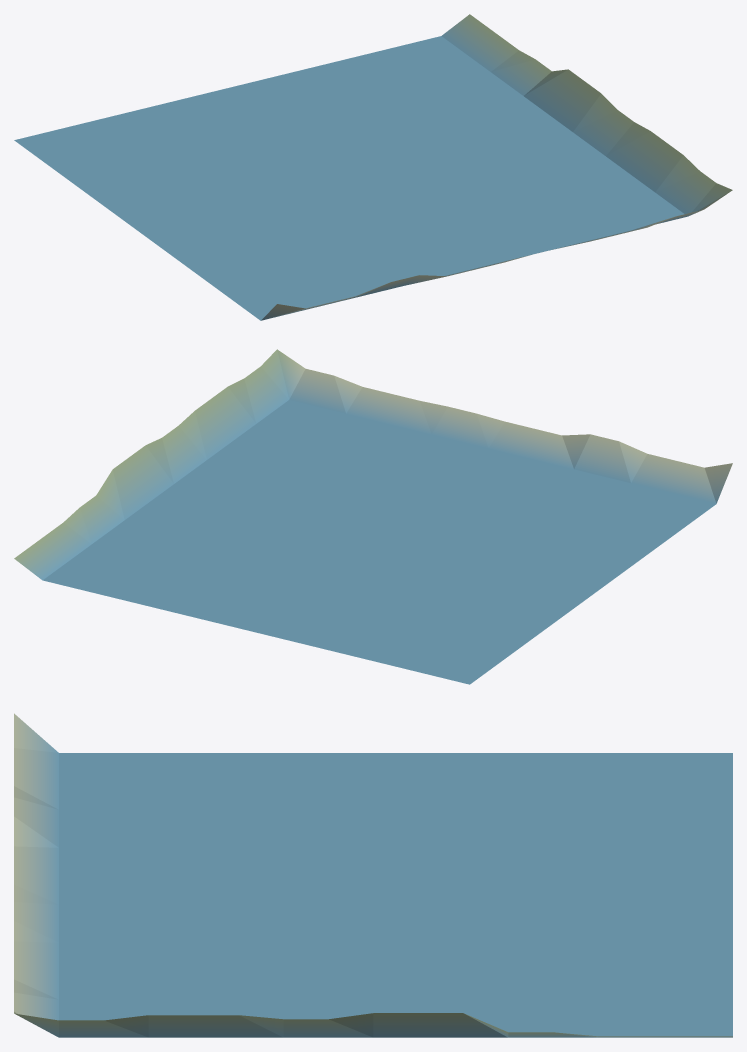
The picture shows the model from 3 angles, top to bottom: view 1: azimuth 30°, elevation 25°; view 2: azimuth 150°, elevation 25°; view 3: azimuth 270°, elevation 25°; orthographic projection. The views are drawn at different scales.
Size of the model in its own units: 32 by 2.14 by 32.
